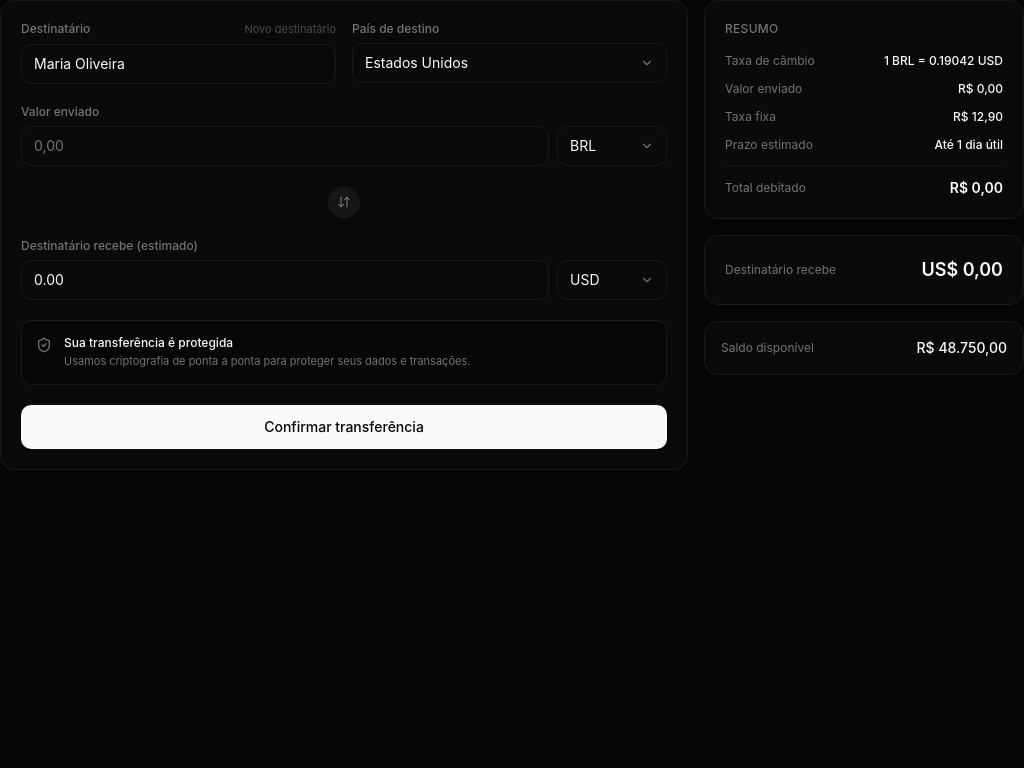
Test: transfer flow › calculates the quote and confirms a valid transfer
The image size is (1024, 768).
In the field labelled "Valor enviado": (285, 146) [21,126,549,166], type "1000,00"
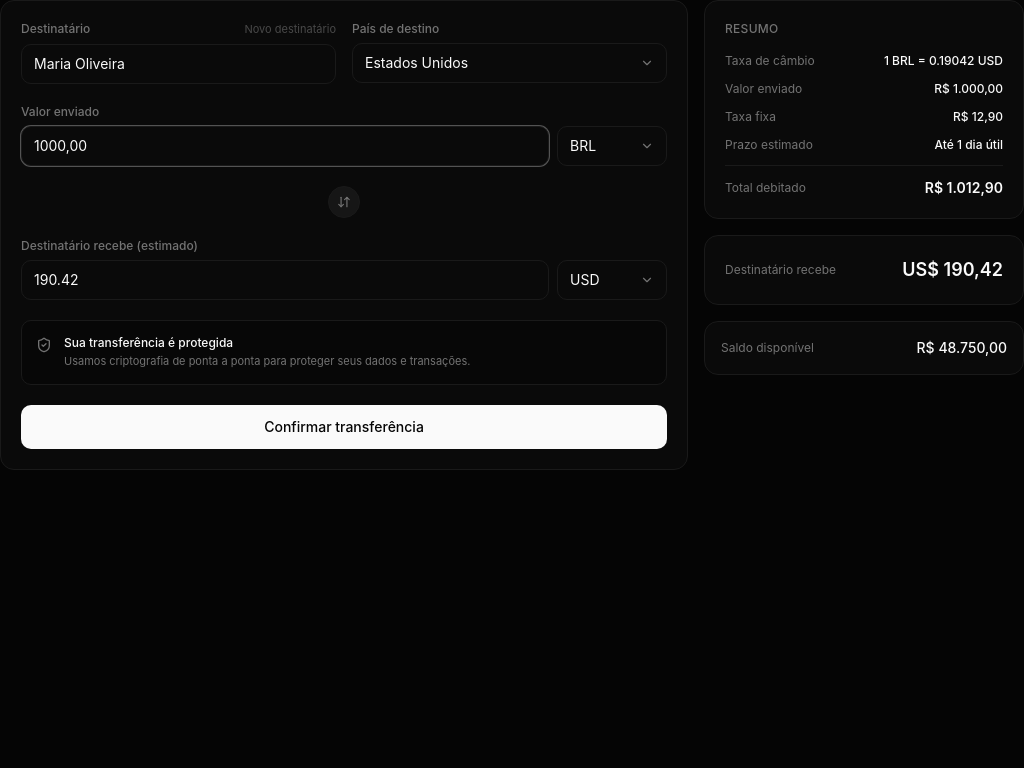
Result: the text "R$ 1.012,90" is shown at [925,178,1003,198]
Result: the text "US$ 190,42" is shown at [902,256,1003,284]
Click the button "Confirmar transferência": (344, 427) [21,405,667,449]
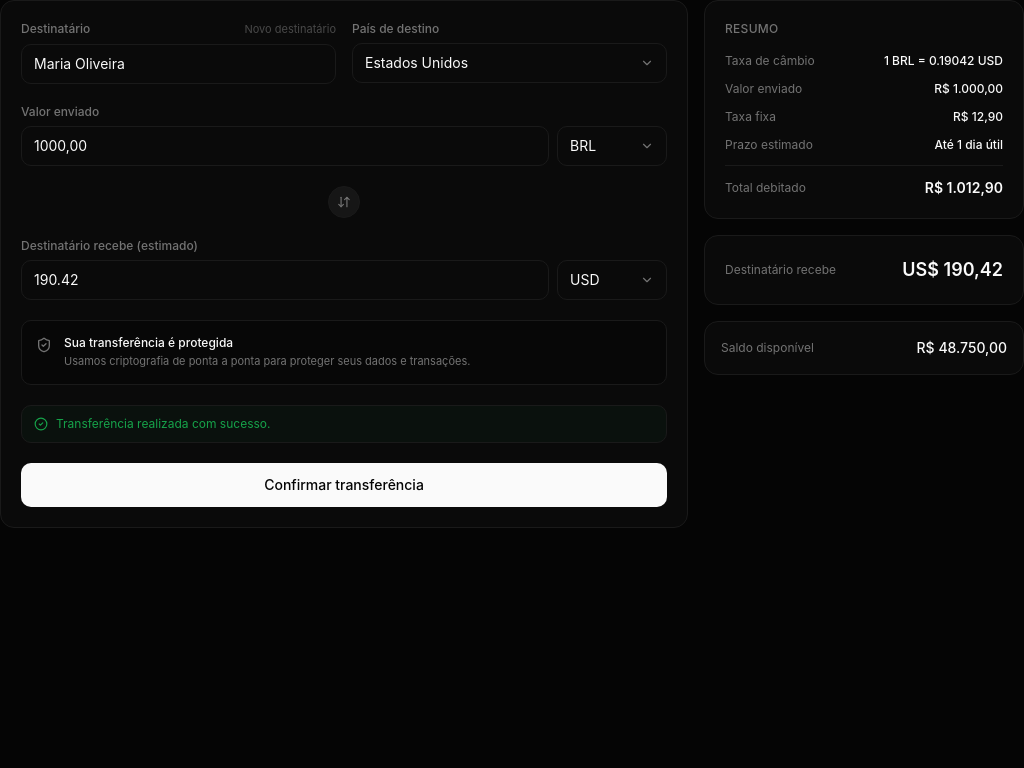
Result: the text "Transferência realizada com sucesso." is shown at [21,405,667,443]
